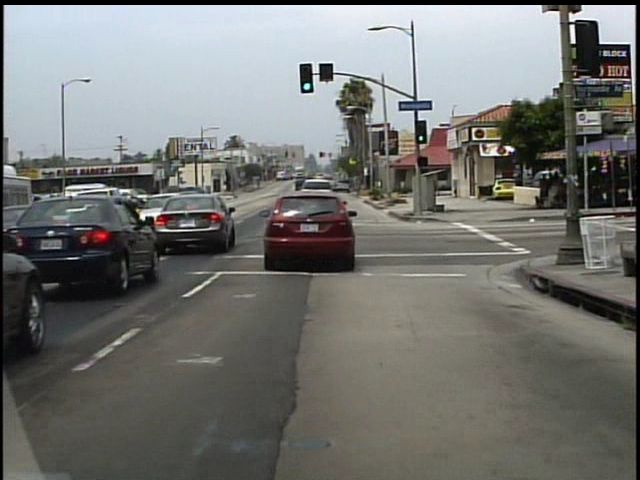person: (512, 171, 526, 206)
